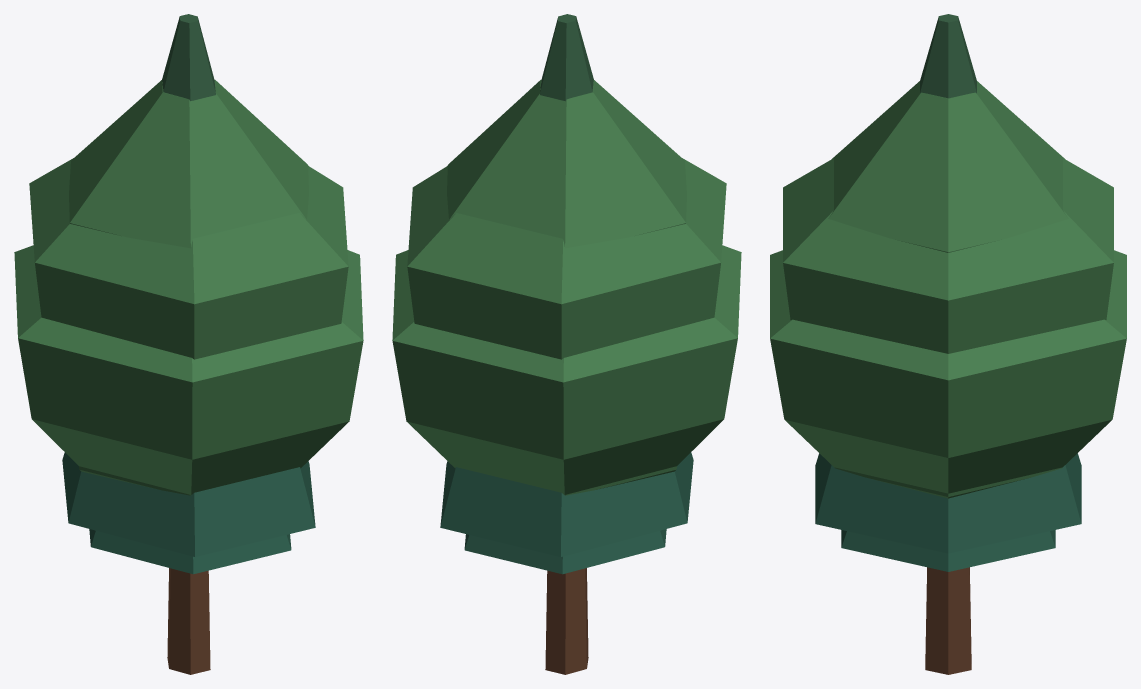
The model's file is forest-lod3.glb.
3 views of the same model, side by side, from view 1: azimuth 30°, elevation 25°; view 2: azimuth 150°, elevation 25°; view 3: azimuth 270°, elevation 25° (orthographic).
Visible parts, largest first — view 1: 00_oak, 01_beech, 03_birch, 04_spruce, 05_young_fir; view 2: 00_oak, 01_beech, 03_birch, 04_spruce, 05_young_fir; view 3: 00_oak, 01_beech, 03_birch, 04_spruce, 05_young_fir, 02_young_oak.
Boxes of the visible parts, bbox=[...] form: 00_oak: bbox=[14, 245, 363, 494]; 01_beech: bbox=[29, 158, 348, 359]; 03_birch: bbox=[69, 80, 308, 248]; 04_spruce: bbox=[62, 14, 315, 674]; 05_young_fir: bbox=[89, 529, 291, 574]; 00_oak: bbox=[392, 245, 741, 494]; 01_beech: bbox=[407, 158, 726, 359]; 03_birch: bbox=[447, 80, 686, 248]; 04_spruce: bbox=[440, 14, 693, 674]; 05_young_fir: bbox=[464, 529, 666, 574]; 00_oak: bbox=[770, 250, 1126, 493]; 01_beech: bbox=[783, 158, 1113, 353]; 03_birch: bbox=[828, 81, 1068, 252]; 04_spruce: bbox=[815, 14, 1081, 674]; 05_young_fir: bbox=[841, 530, 1055, 571]; 02_young_oak: bbox=[834, 467, 1062, 498].
Size of the model in its own units: 12.2 by 22 by 11.
